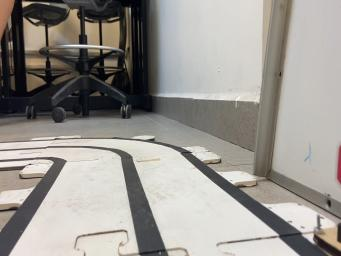street: (0, 138, 326, 255), (0, 138, 326, 255), (0, 138, 326, 255), (0, 138, 326, 255), (0, 138, 326, 255), (0, 138, 326, 255)
